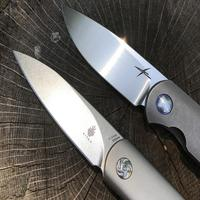knife: (7, 42, 144, 194), (57, 3, 191, 131)
